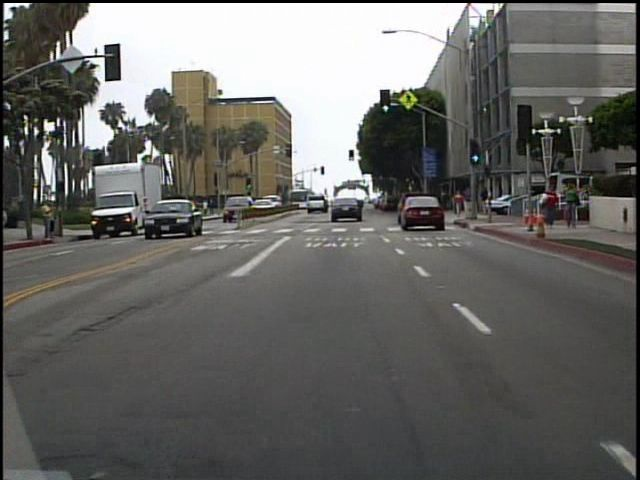person: (42, 195, 60, 241), (463, 183, 479, 219), (449, 189, 465, 218)
